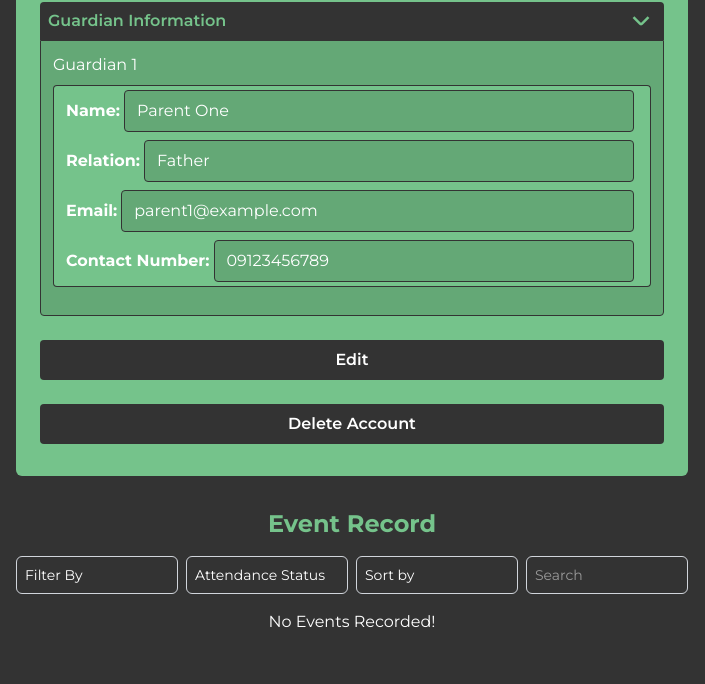
Test: Beneficiary Update › allows discarding changes to beneficiary profile
The image size is (705, 684).
(page scrolled)
Click the button "Edit": click(352, 360) [40, 340, 664, 380]
(page scrolled)
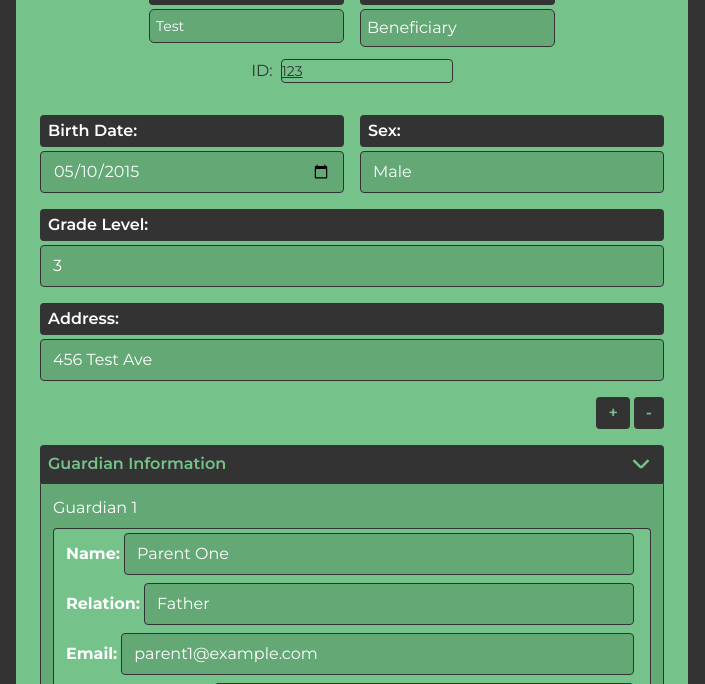
Replace the text in the field labelled "Address:" with "Temp Address": (352, 360) [40, 339, 664, 381]
(page scrolled)
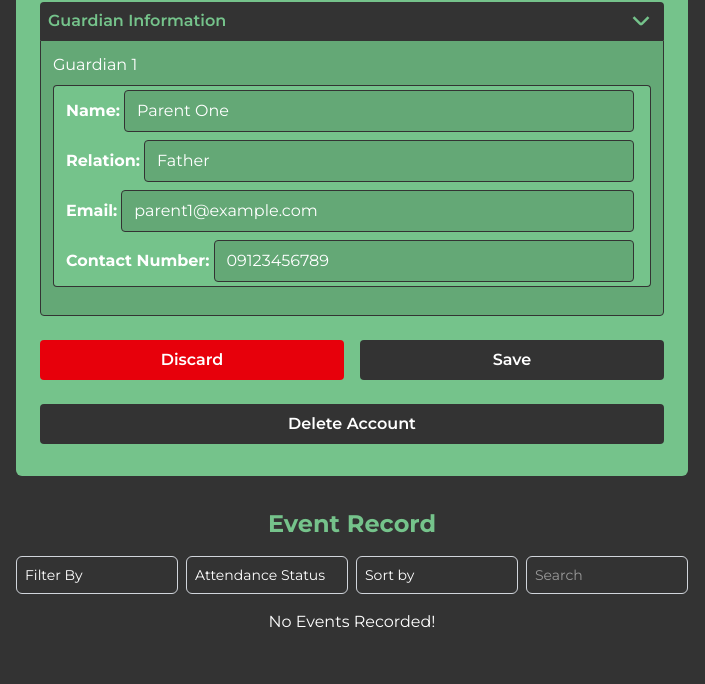
Click the button "Discard": click(192, 360) [40, 340, 344, 380]
(page scrolled)
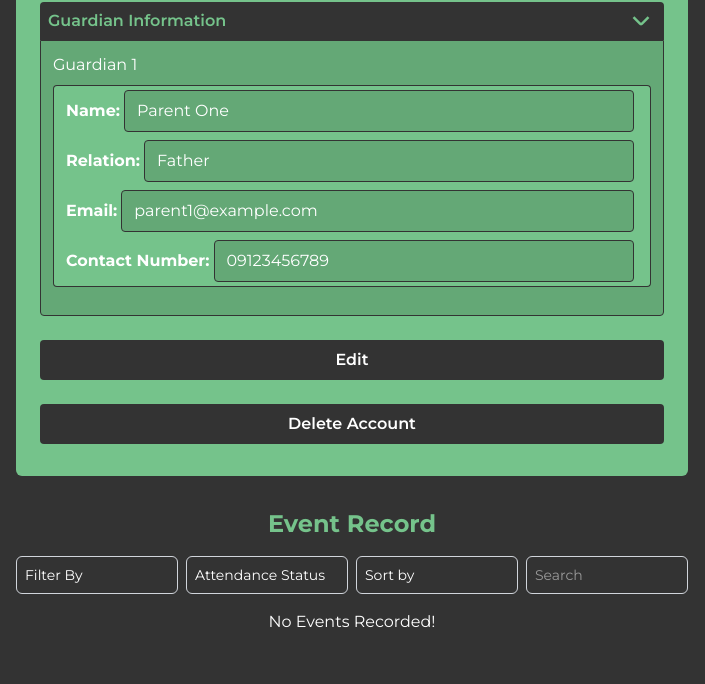
Check: the button "Edit" is shown, box [40, 340, 664, 380]
